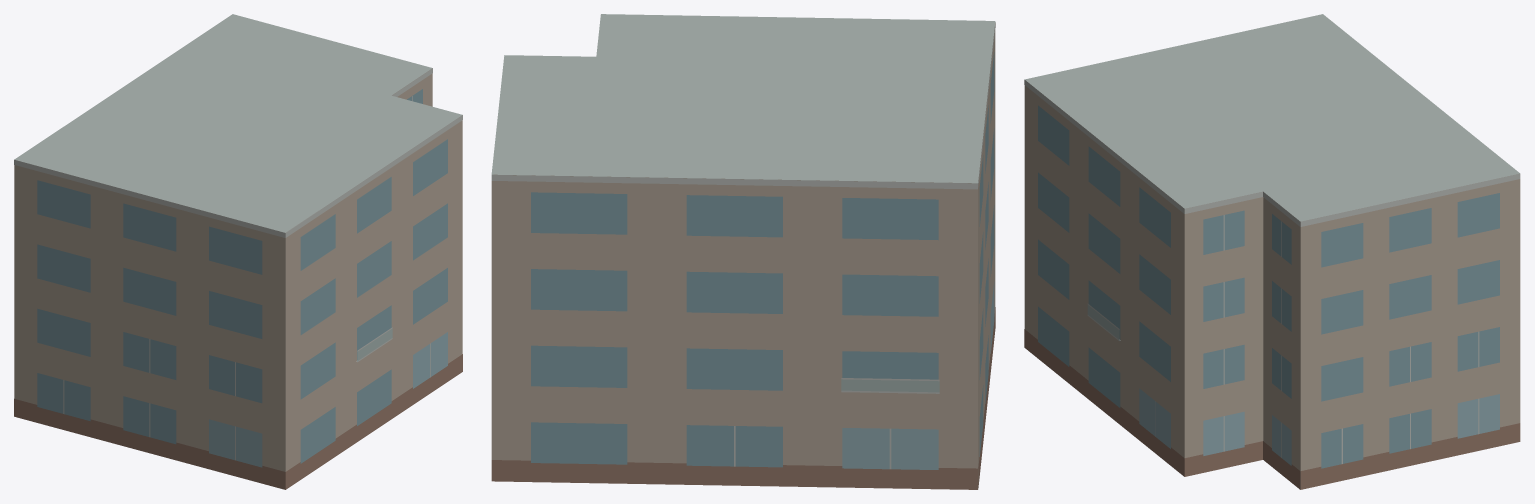
The model's file is survey-upis-32807082.glb.
3 views of the same model, side by side, from view 1: azimuth 30°, elevation 25°; view 2: azimuth 150°, elevation 25°; view 3: azimuth 270°, elevation 25° (orthographic). The views are drawn at different scales.
Visible parts, largest first — view 1: survey-upis-32807082.tmp; view 2: survey-upis-32807082.tmp; view 3: survey-upis-32807082.tmp.
Boxes of the visible parts, x1,y1,x2,y2 form: survey-upis-32807082.tmp: [14, 14, 462, 489]; survey-upis-32807082.tmp: [491, 14, 995, 489]; survey-upis-32807082.tmp: [1024, 14, 1520, 489].
Size of the model in its own units: 20.11 by 12.1 by 20.29.
